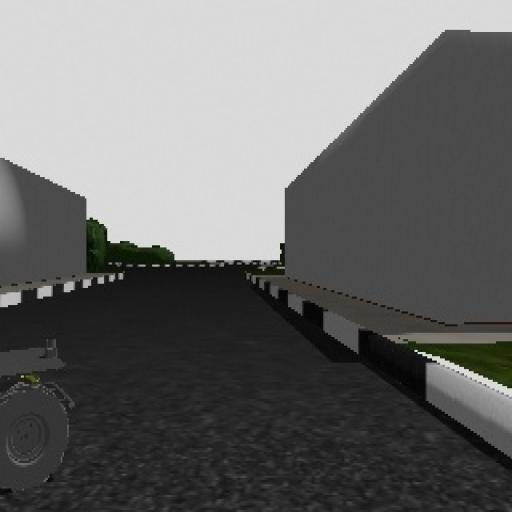huskya200: (0, 336, 80, 504)
